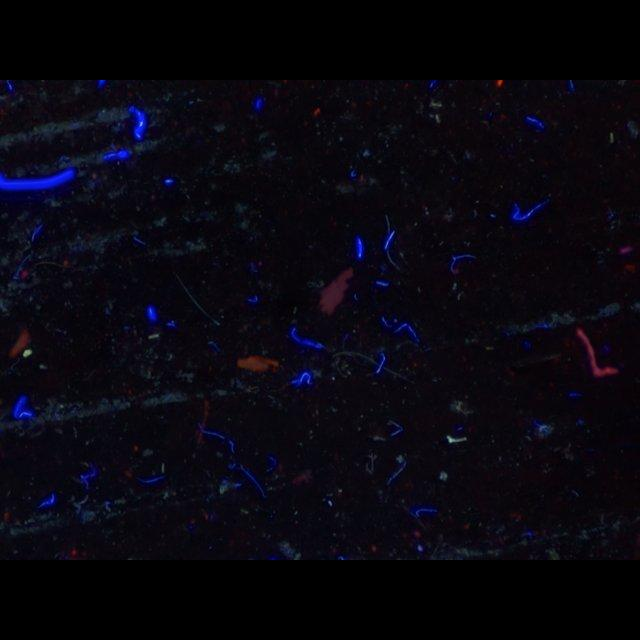Fibre: (450, 252, 474, 272)
